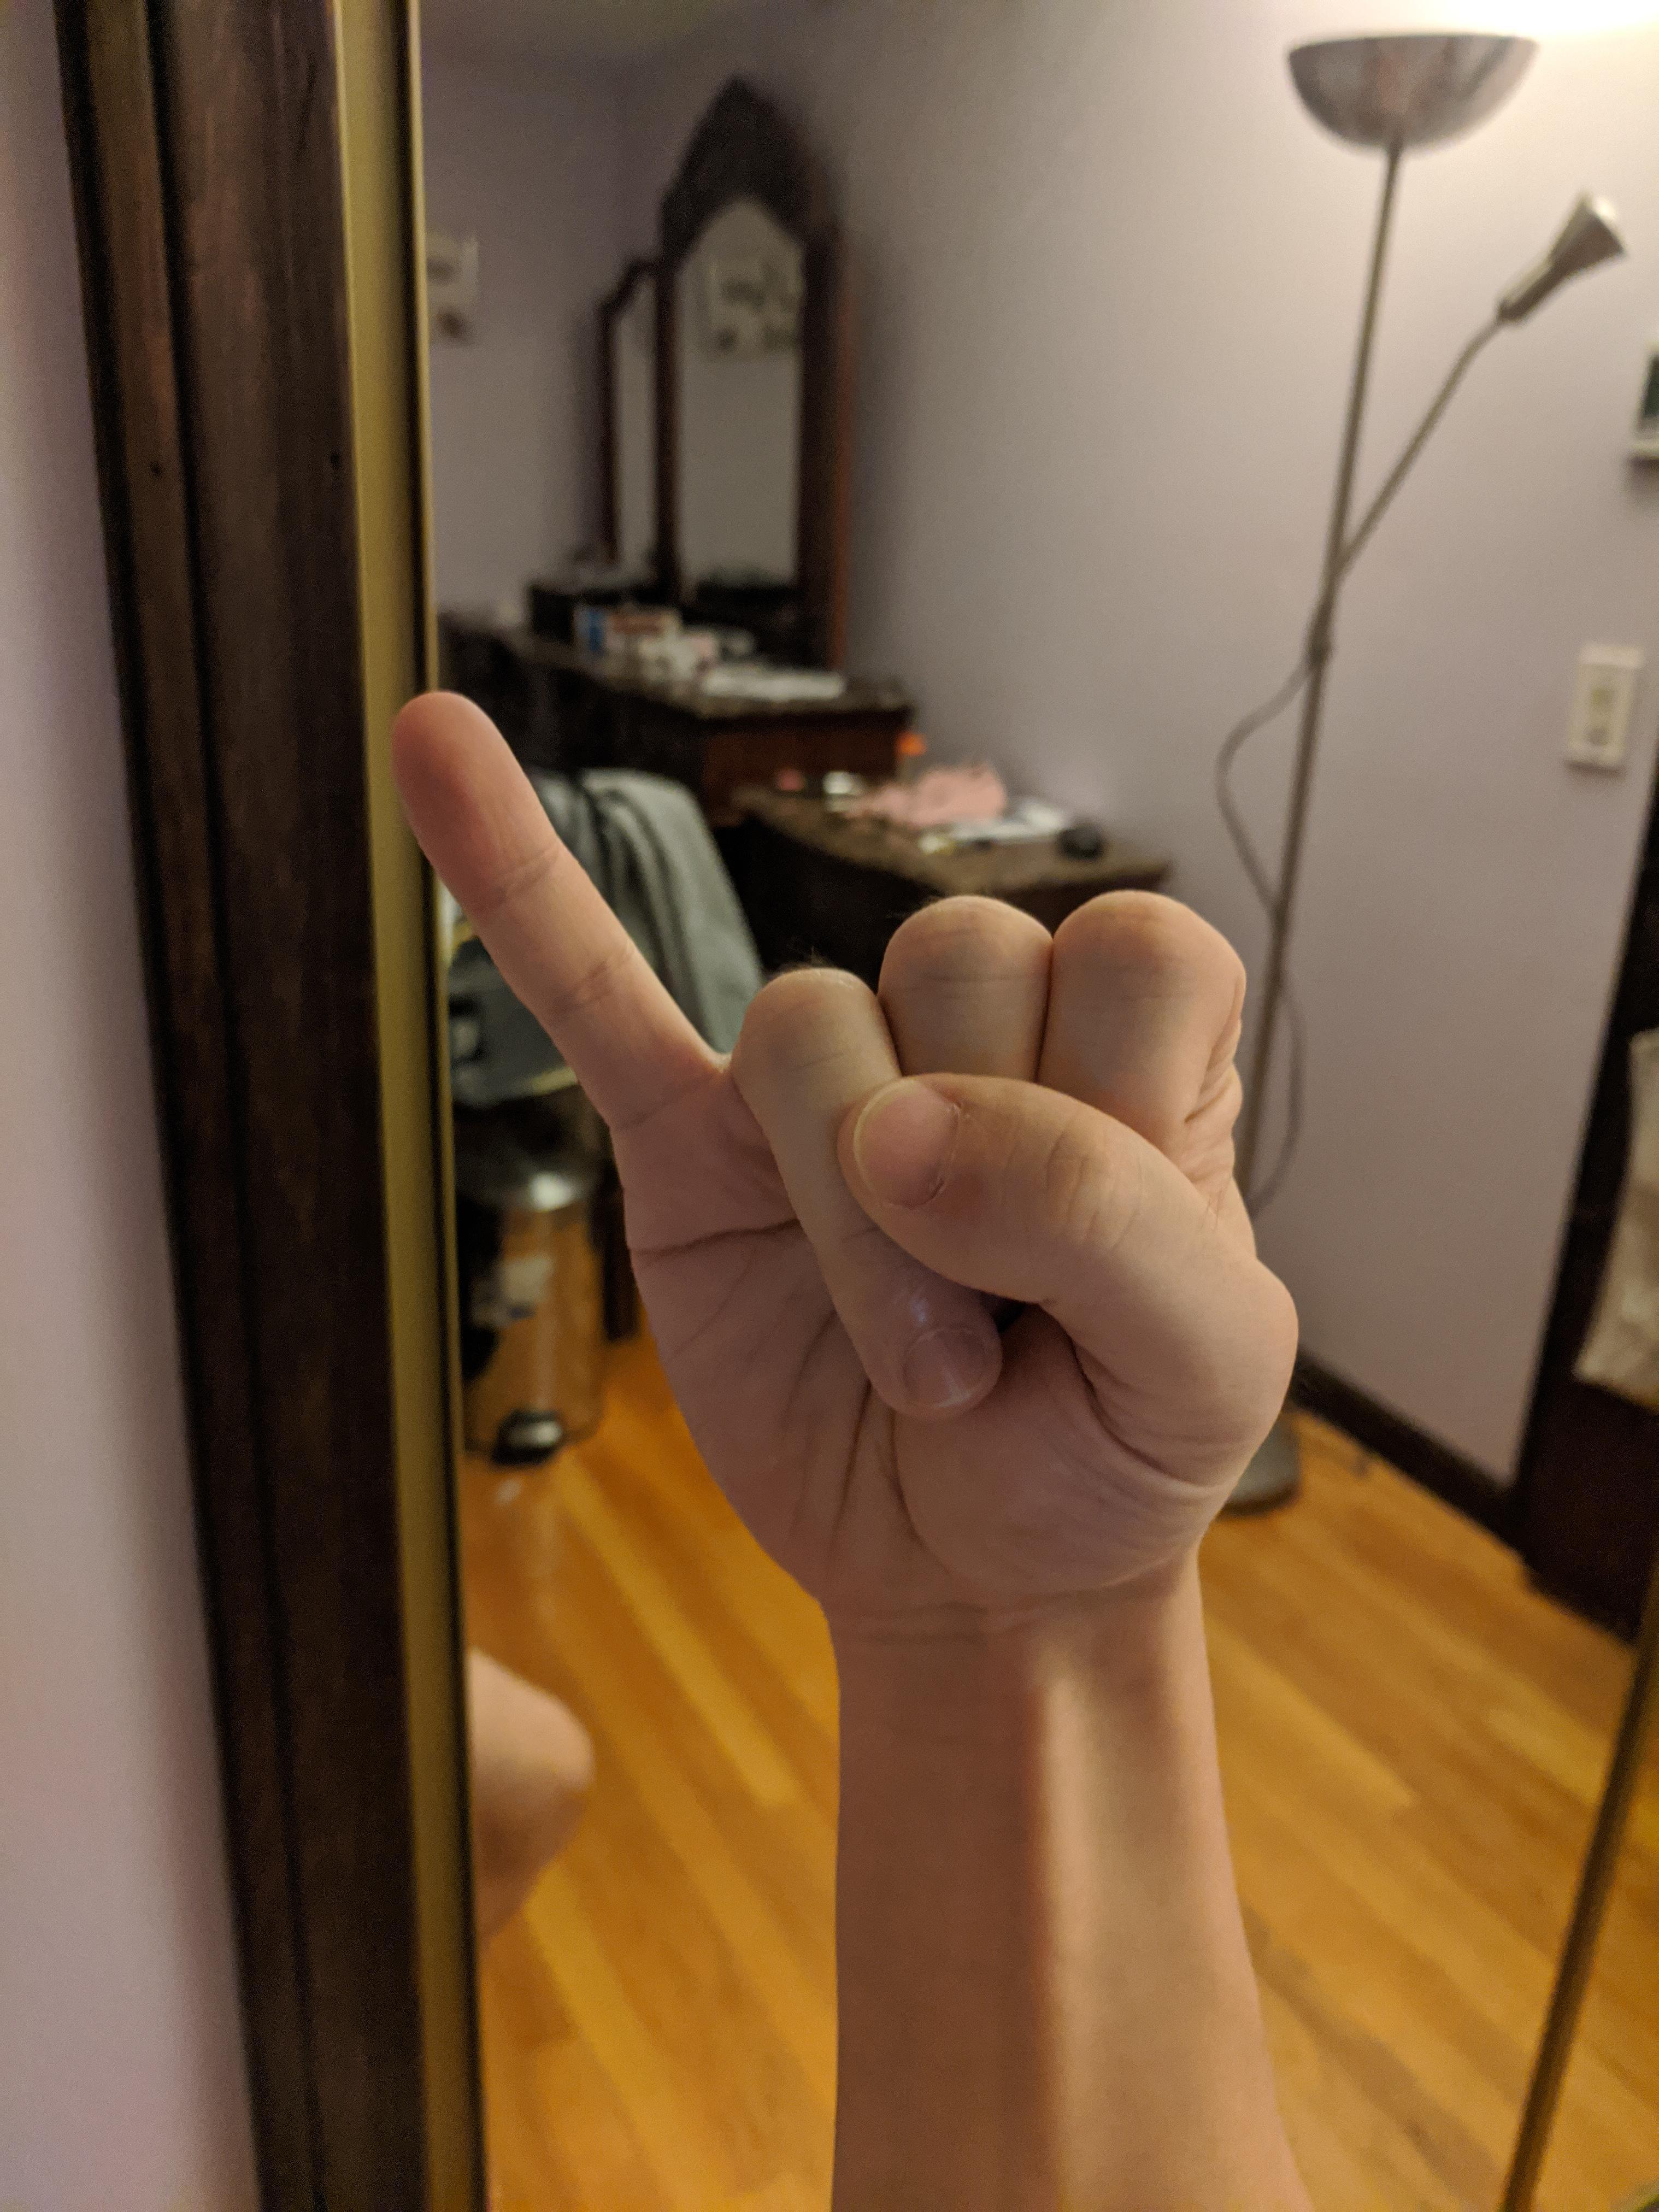I: (369, 665, 1312, 1649)
